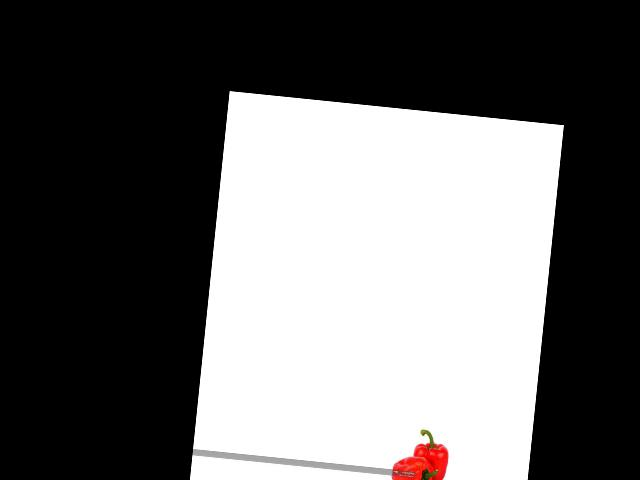bell_pepper: (385, 450, 438, 480)
